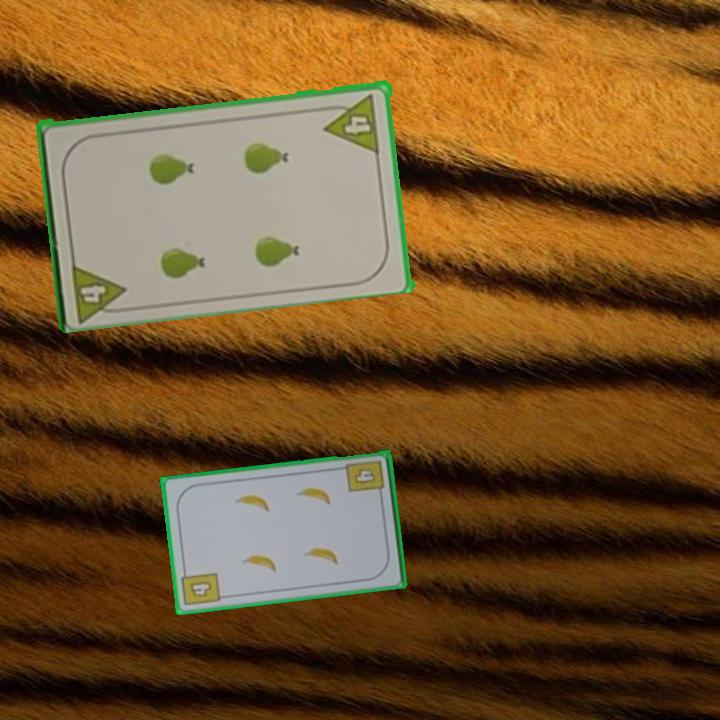4b: (178, 565, 223, 609), (343, 457, 387, 500)
4p: (67, 257, 132, 322), (320, 90, 383, 155)
